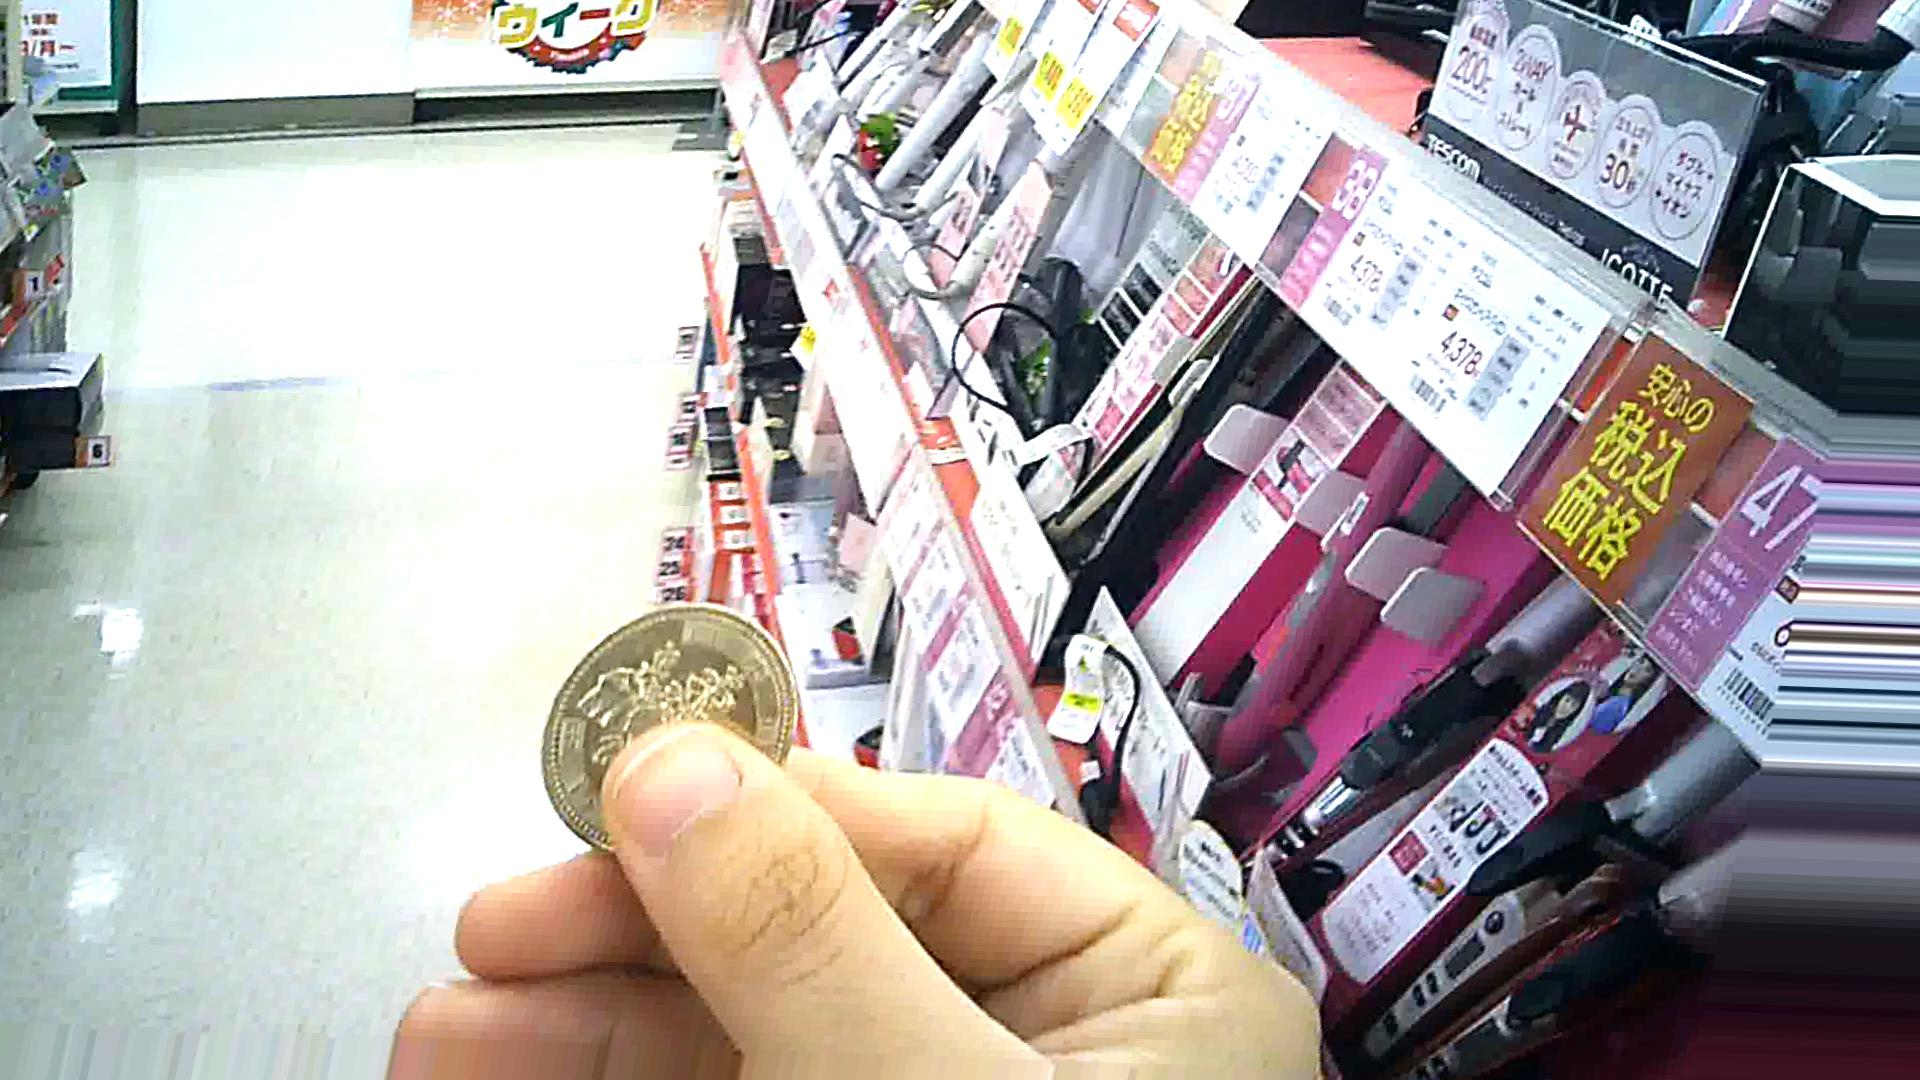500 Yen: (535, 597, 785, 847)
